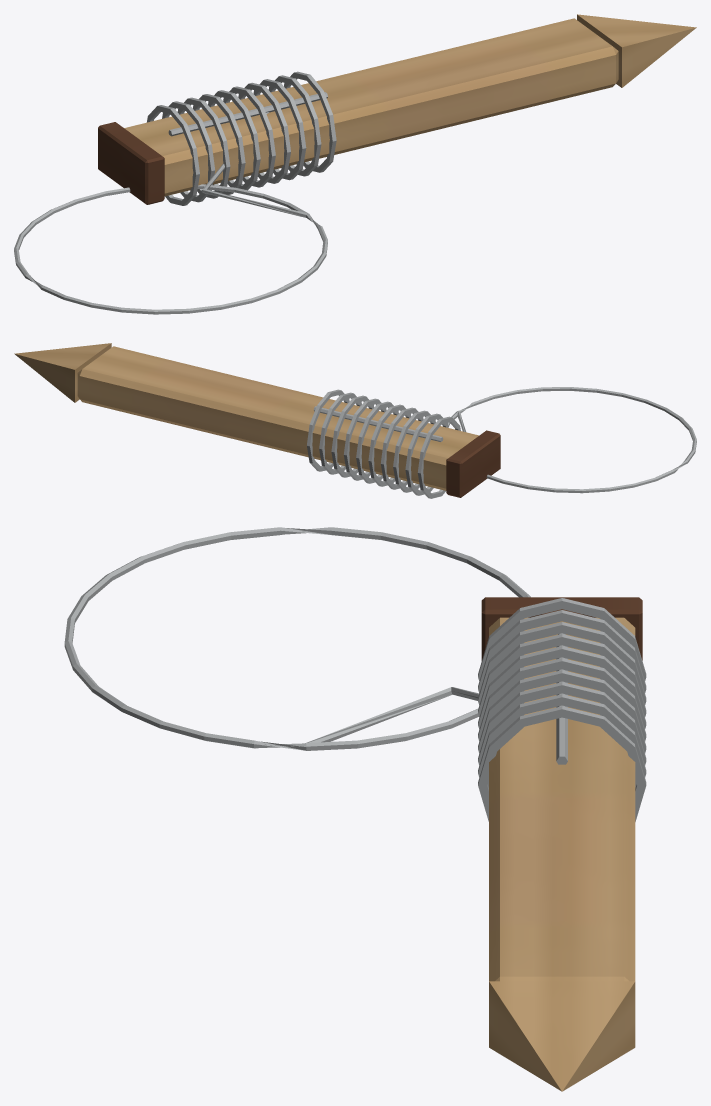
Rendered from armadilha_laco.glb.
3 renders of one model, top to bottom at view 1: azimuth 30°, elevation 25°; view 2: azimuth 150°, elevation 25°; view 3: azimuth 270°, elevation 25°, orthographic. The views are drawn at different scales.
Parts seen in each view (by area): view 1: armadilha_laco_madeira_crua, armadilha_laco_galvanizado, armadilha_laco_madeira_escura; view 2: armadilha_laco_madeira_crua, armadilha_laco_galvanizado, armadilha_laco_madeira_escura; view 3: armadilha_laco_madeira_crua, armadilha_laco_galvanizado, armadilha_laco_madeira_escura.
Part boxes in pixels (left/top/right/bottom): armadilha_laco_madeira_crua: left=124, top=14, right=696, bottom=196; armadilha_laco_galvanizado: left=14, top=71, right=336, bottom=314; armadilha_laco_madeira_escura: left=98, top=122, right=164, bottom=204; armadilha_laco_madeira_crua: left=14, top=343, right=478, bottom=490; armadilha_laco_galvanizado: left=306, top=387, right=696, bottom=498; armadilha_laco_madeira_escura: left=446, top=430, right=500, bottom=497; armadilha_laco_madeira_crua: left=489, top=617, right=635, bottom=1091; armadilha_laco_galvanizado: left=64, top=527, right=646, bottom=821; armadilha_laco_madeira_escura: left=481, top=597, right=642, bottom=660.
Size of the model in its own units: 0.3806 by 0.046 by 0.1589.
3 materials, 2 textured.
